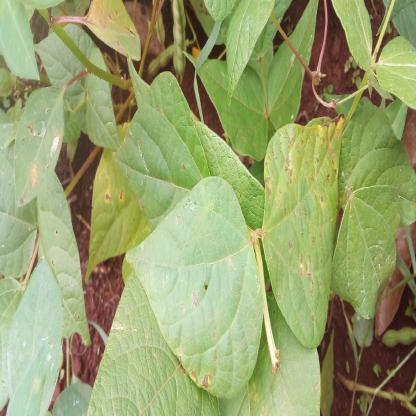Beans_Angular_LeafSpot: (125, 178, 262, 396), (262, 92, 346, 334), (78, 132, 162, 272), (0, 77, 91, 199)
